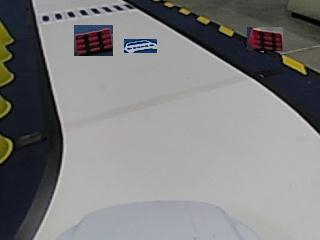crosswalk: (39, 2, 132, 22)
